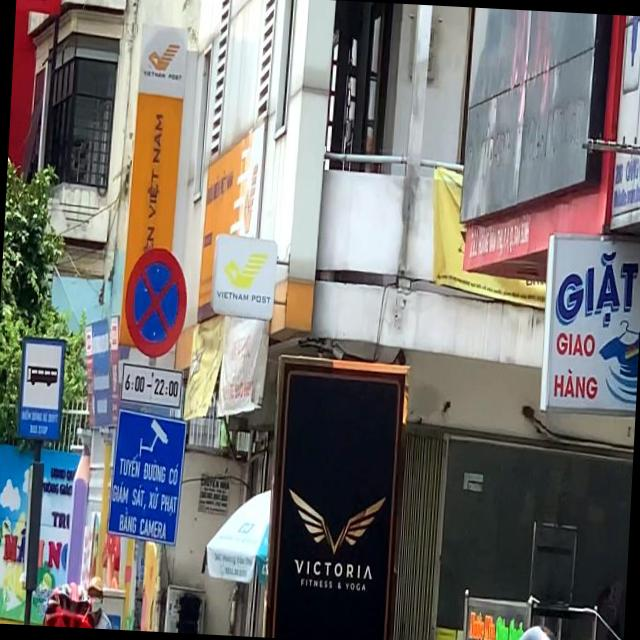P-130: (122, 246, 190, 358)
